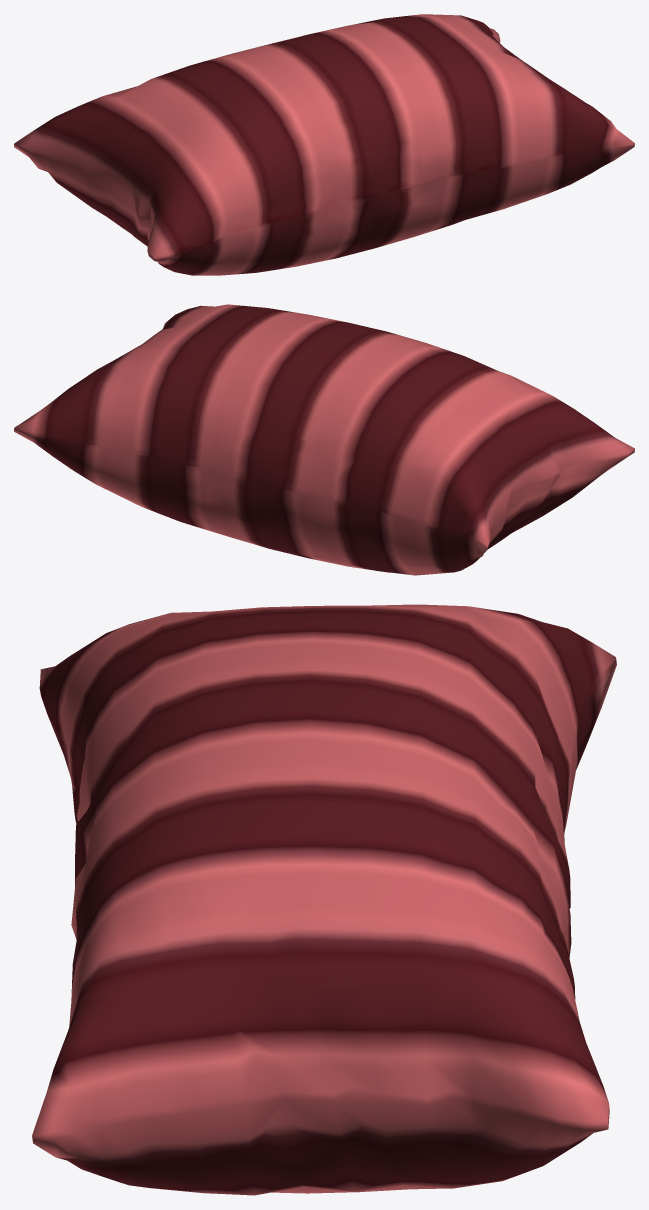
File: pillow yusuf.fbx
3 views of the same model, one above another, from view 1: azimuth 30°, elevation 25°; view 2: azimuth 150°, elevation 25°; view 3: azimuth 270°, elevation 25° (orthographic). The views are drawn at different scales.
Parts seen in each view (by area): view 1: Yusuf Tufted Upholstered Low Profile Standard Bed.001; view 2: Yusuf Tufted Upholstered Low Profile Standard Bed.001; view 3: Yusuf Tufted Upholstered Low Profile Standard Bed.001.
Boxes of the visible parts, bbox=[...] form: Yusuf Tufted Upholstered Low Profile Standard Bed.001: bbox=[14, 14, 634, 275]; Yusuf Tufted Upholstered Low Profile Standard Bed.001: bbox=[14, 304, 634, 575]; Yusuf Tufted Upholstered Low Profile Standard Bed.001: bbox=[32, 604, 616, 1195].
Size of the model in its own units: 0.6508 by 0.2564 by 0.3441.
